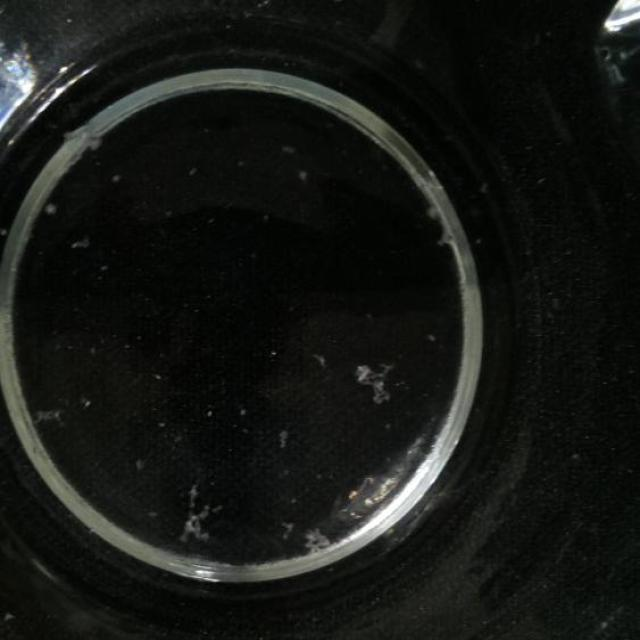fiber: (351, 348, 396, 408), (175, 482, 214, 544), (68, 110, 112, 156), (300, 517, 337, 557), (25, 399, 65, 434), (128, 446, 152, 479), (62, 231, 94, 255), (434, 226, 462, 252), (415, 201, 447, 222), (0, 602, 23, 628), (275, 421, 293, 453), (290, 167, 311, 186)
